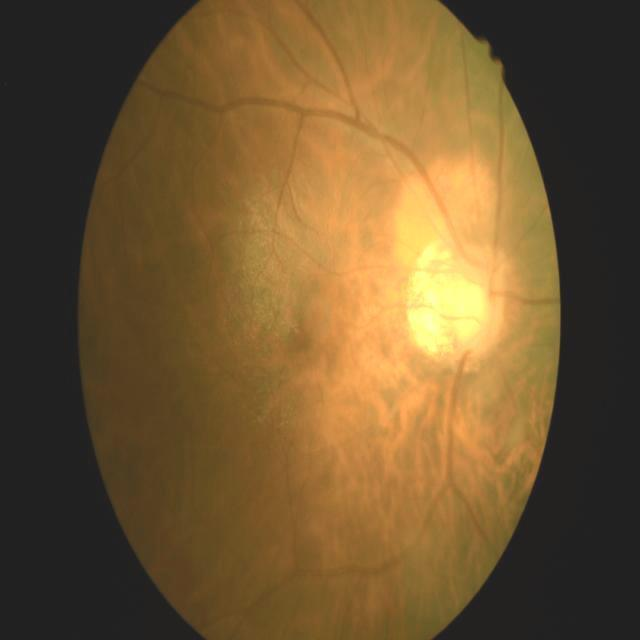cup: (457, 272, 493, 338)
disk: (447, 252, 503, 356)
